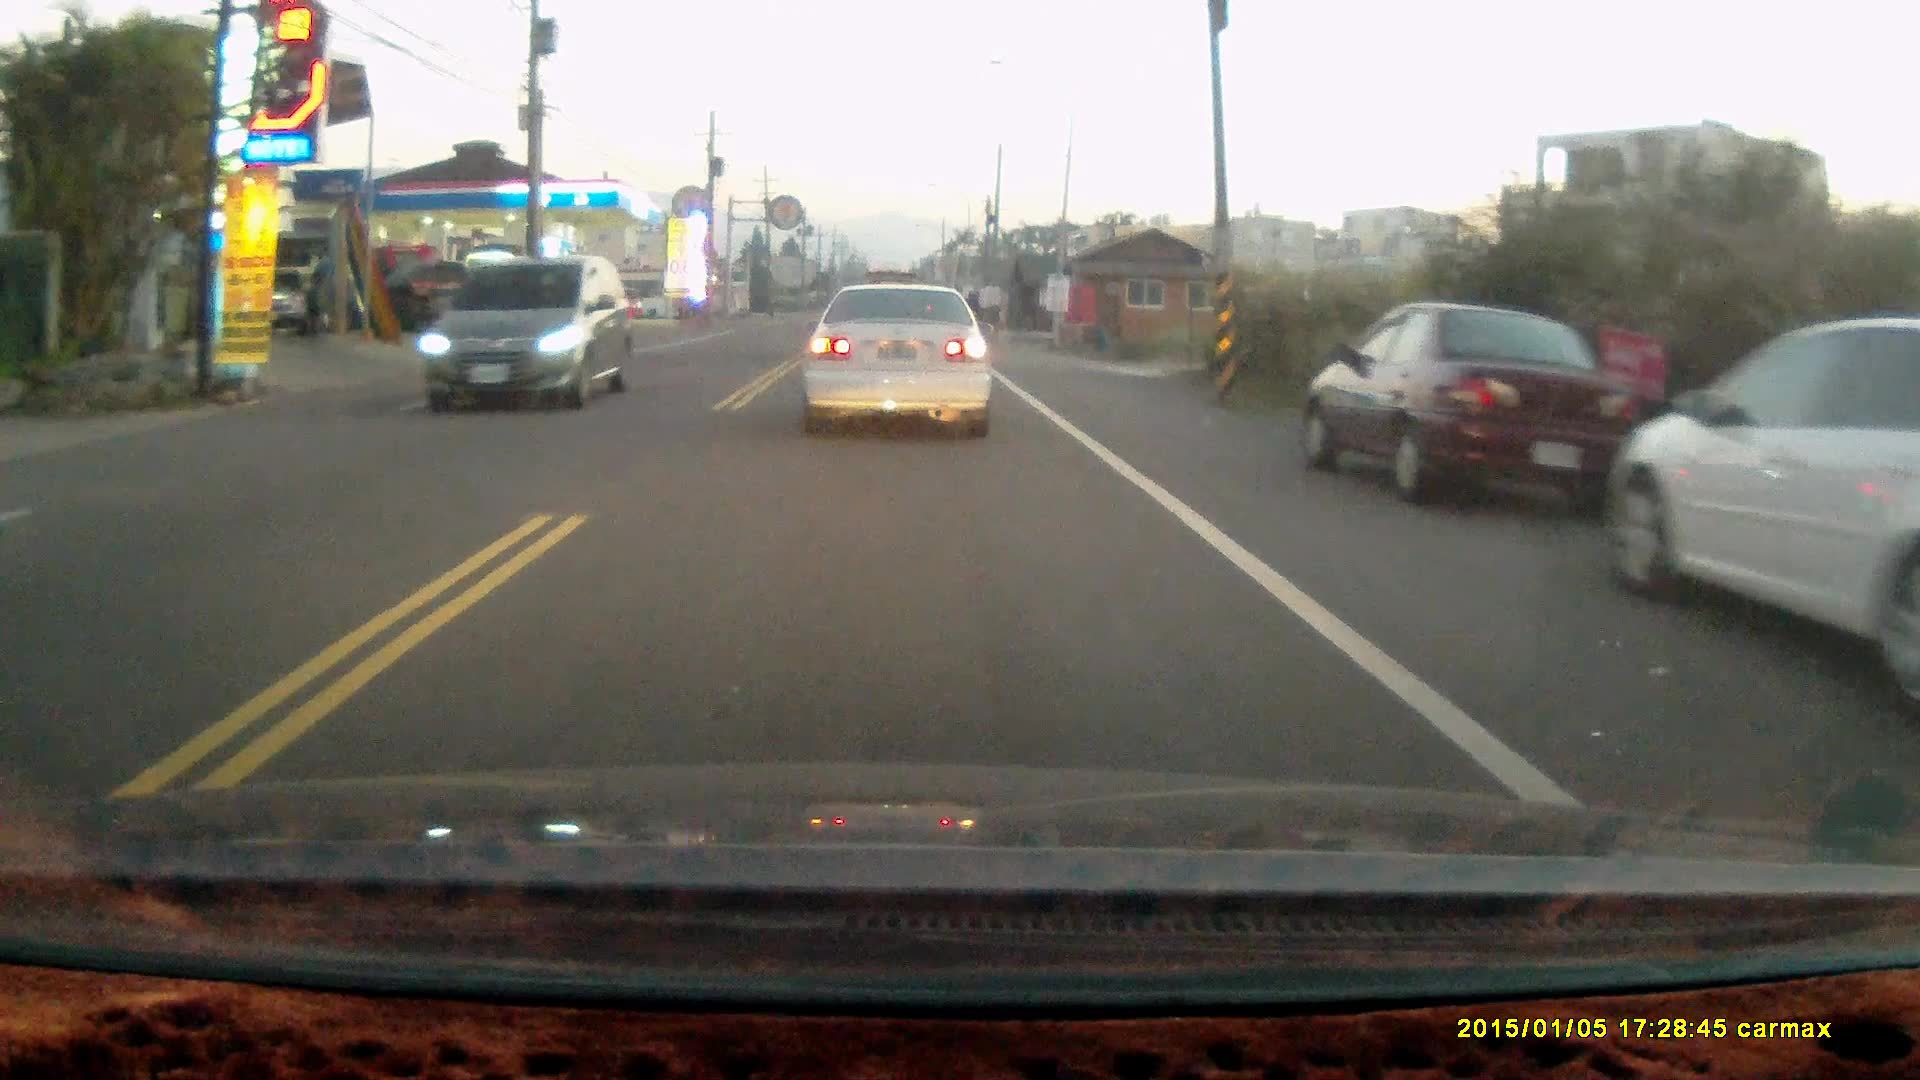vehicle: (1598, 315, 1920, 705), (1302, 301, 1652, 508), (425, 255, 636, 411), (796, 281, 996, 444)
